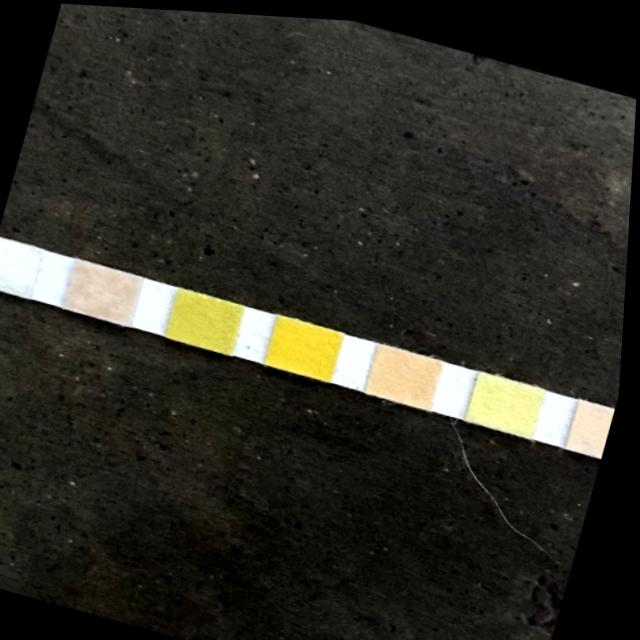Bilirubin: (0, 237, 47, 299)
Blood: (269, 312, 348, 378)
Ketone: (69, 257, 148, 324)
Protein: (472, 364, 551, 431)
SpGravity: (169, 287, 248, 353)
Urobilinogen: (573, 392, 620, 450)
pH: (369, 338, 448, 404)
